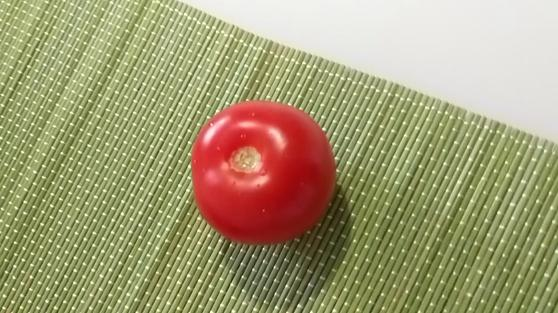tomato: (197, 106, 338, 238)
